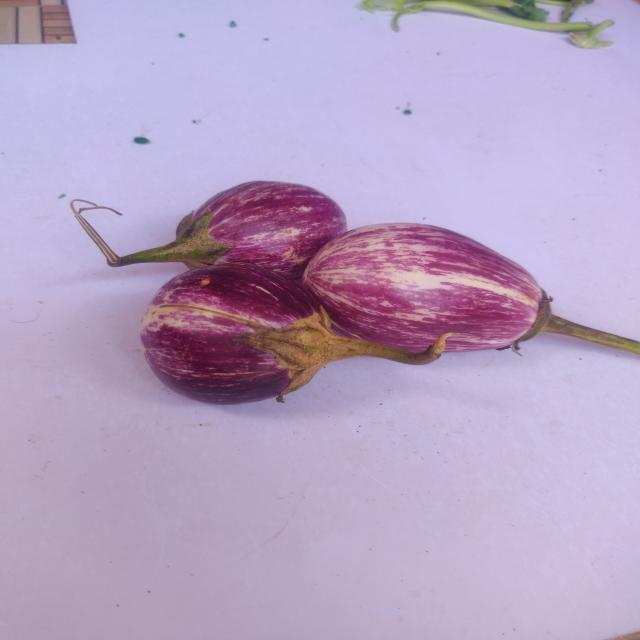Eggplant: (140, 263, 454, 405), (301, 223, 640, 354), (69, 181, 346, 279)
